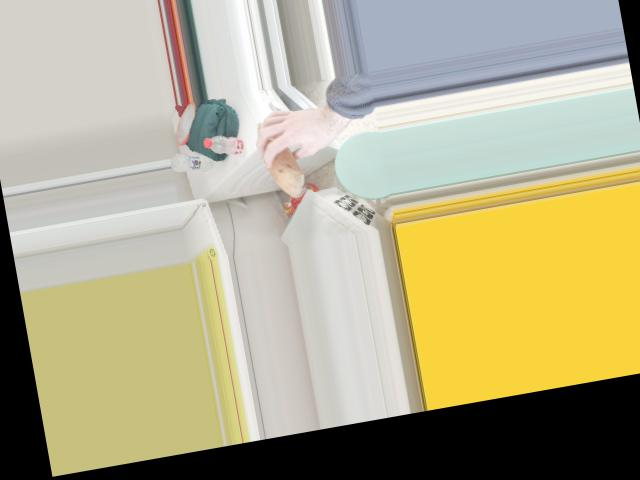sweet_potato: (253, 112, 304, 199)
